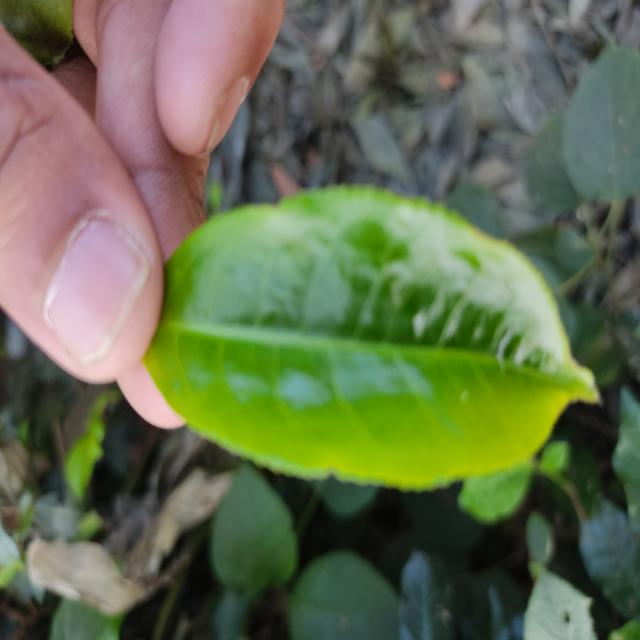Category B(2-4 days): (114, 181, 606, 491)
